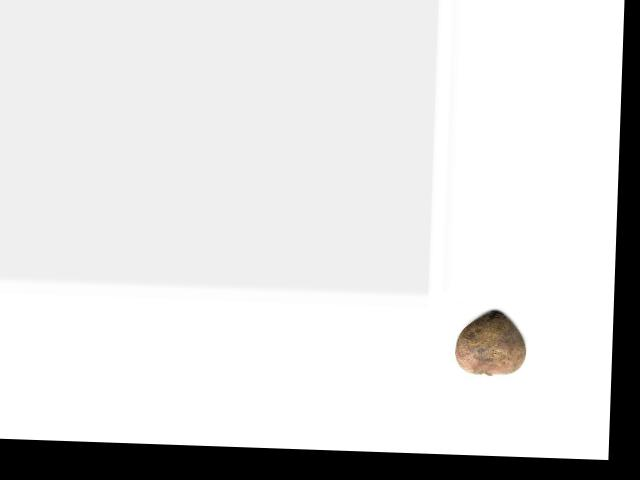beet: (454, 309, 527, 375)
